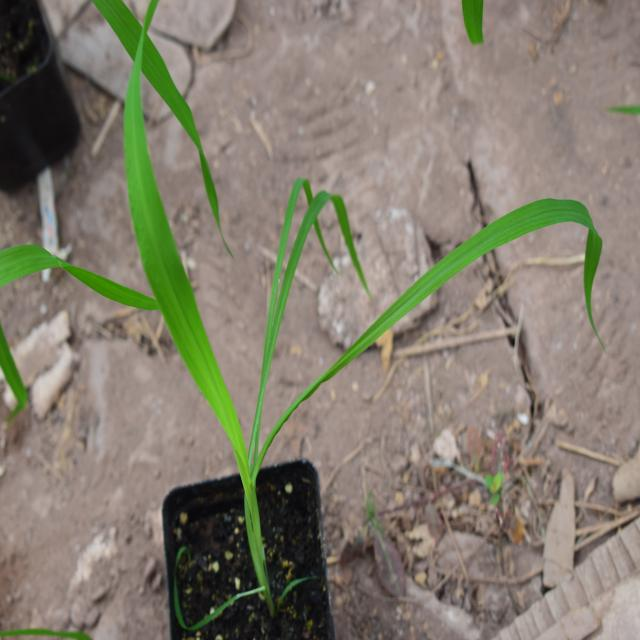barnyard_grass: (123, 1, 596, 477)
